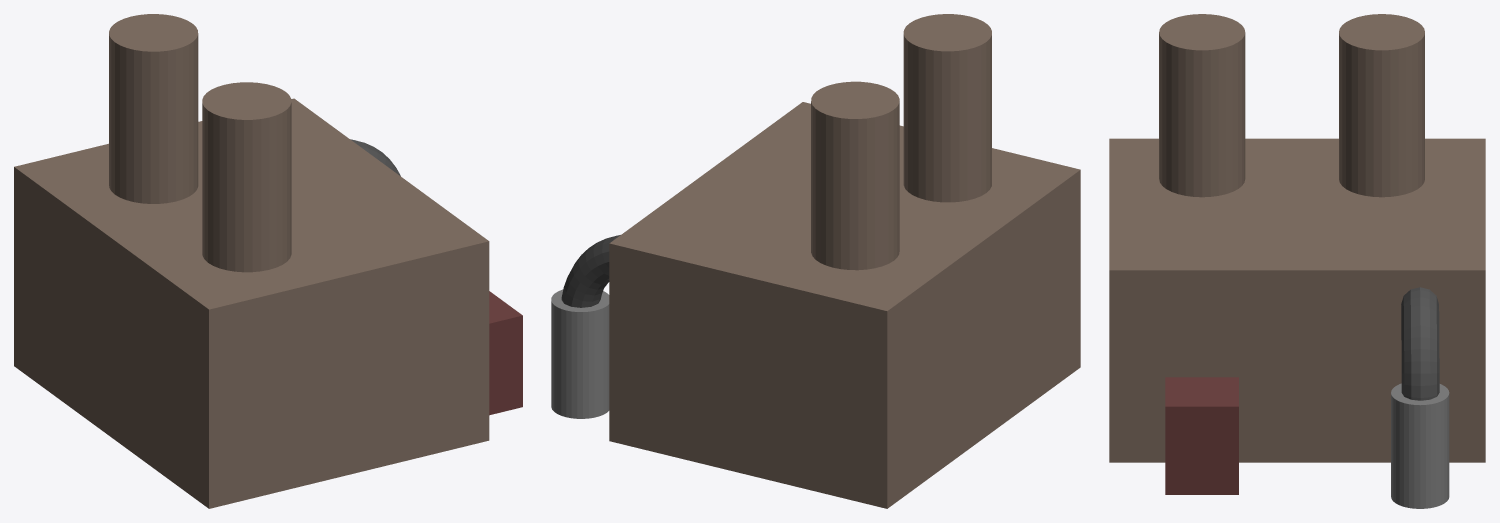
File: SimpleFactory.fbx
3 renders of one model, left to right at view 1: azimuth 30°, elevation 25°; view 2: azimuth 150°, elevation 25°; view 3: azimuth 270°, elevation 25°, orthographic. The views are drawn at different scales.
Visible parts, largest first — view 1: Cube.001; view 2: Cube.001; view 3: Cube.001.
Part boxes in pixels (box(x1,y1,x2,y2)): Cube.001: box(14, 14, 522, 508); Cube.001: box(551, 14, 1080, 508); Cube.001: box(1109, 14, 1485, 508).
Bounding box in the file's own units: 163 × 150 × 149.
